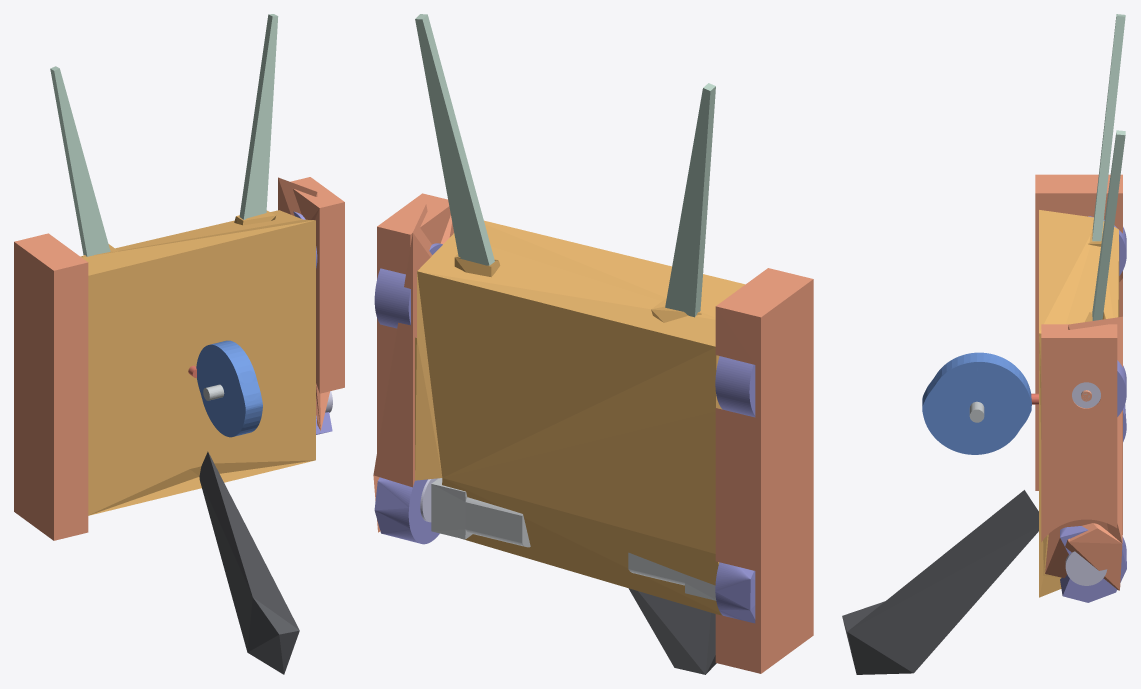
The model's file is thwack_attack.glb.
3 renders of one model, left to right at view 1: azimuth 30°, elevation 25°; view 2: azimuth 150°, elevation 25°; view 3: azimuth 270°, elevation 25°, orthographic. The views are drawn at different scales.
Visible parts, largest first — view 1: chassis, side_pod_r, tail_arm, side_pod_l, weapon, fork_1, fork_0; view 2: chassis, side_pod_r, side_pod_l, fork_1, fork_0, tail_arm, dm_wheel_l0, wheel_l0, wheel_r1, wheel_r0, wheel_l1, dm_wheel_r0; view 3: side_pod_l, tail_arm, chassis, weapon, side_pod_r, fork_0, fork_1, wheel_l0, dt_hub_wheel_l0, dt_hub_wheel_l1, wheel_l1.
Boxes of the visible parts, box(x1,y1,x2,y2) form: chassis: box(80, 210, 315, 515); side_pod_r: box(14, 233, 88, 540); tail_arm: box(199, 451, 299, 674); side_pod_l: box(278, 177, 344, 430); weapon: box(196, 340, 262, 437); fork_1: box(239, 14, 278, 219); fork_0: box(50, 66, 110, 256); chassis: box(415, 220, 745, 615); side_pod_r: box(715, 268, 813, 673); side_pod_l: box(373, 193, 453, 532); fork_1: box(415, 14, 494, 265); fork_0: box(665, 83, 715, 317); tail_arm: box(628, 588, 716, 674); dm_wheel_l0: box(431, 478, 530, 547); wheel_l0: box(374, 477, 439, 544); wheel_r1: box(715, 356, 755, 417); wheel_r0: box(715, 562, 755, 623); wheel_l1: box(374, 243, 442, 328); dm_wheel_r0: box(628, 552, 716, 600); side_pod_l: box(1041, 316, 1122, 590); tail_arm: box(842, 490, 1038, 674); chassis: box(1039, 210, 1119, 597); weapon: box(922, 352, 1031, 454); side_pod_r: box(1035, 174, 1122, 490); fork_0: box(1092, 14, 1125, 241); fork_1: box(1092, 130, 1125, 320); wheel_l0: box(1060, 526, 1126, 602); dt_hub_wheel_l0: box(1065, 551, 1107, 585); dt_hub_wheel_l1: box(1072, 382, 1100, 408); wheel_l1: box(1117, 360, 1126, 416).
Bounding box in the file's own units: 103 × 182 × 78.07.
